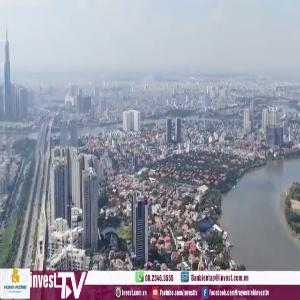drone: (185, 206, 235, 256)
